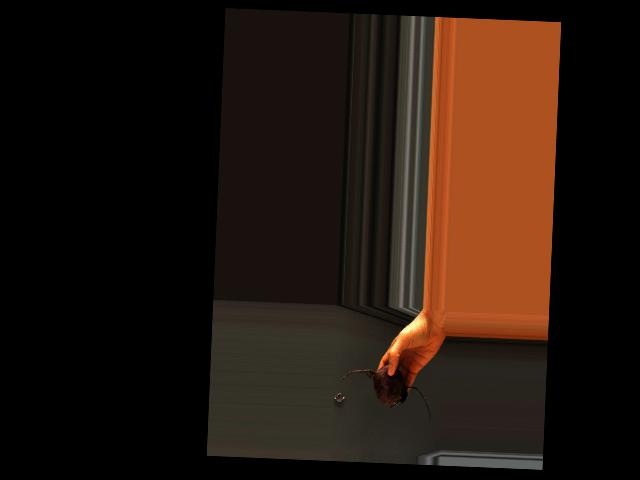beet: (340, 363, 433, 423)
